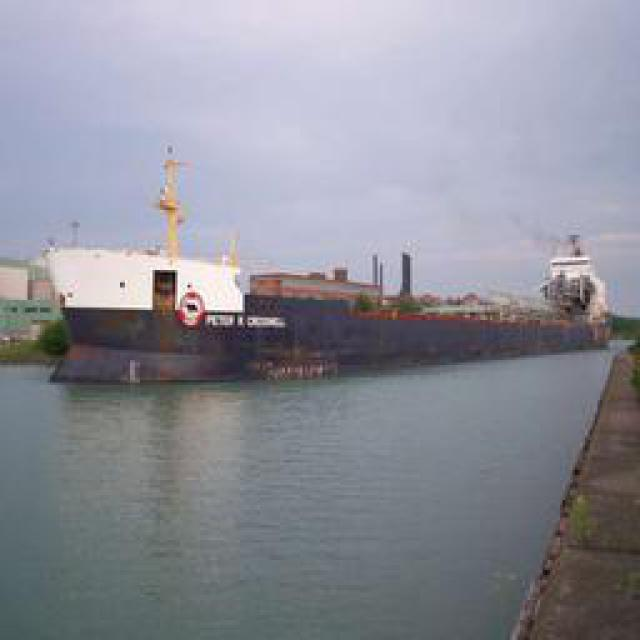Ship: (40, 235, 283, 383)
